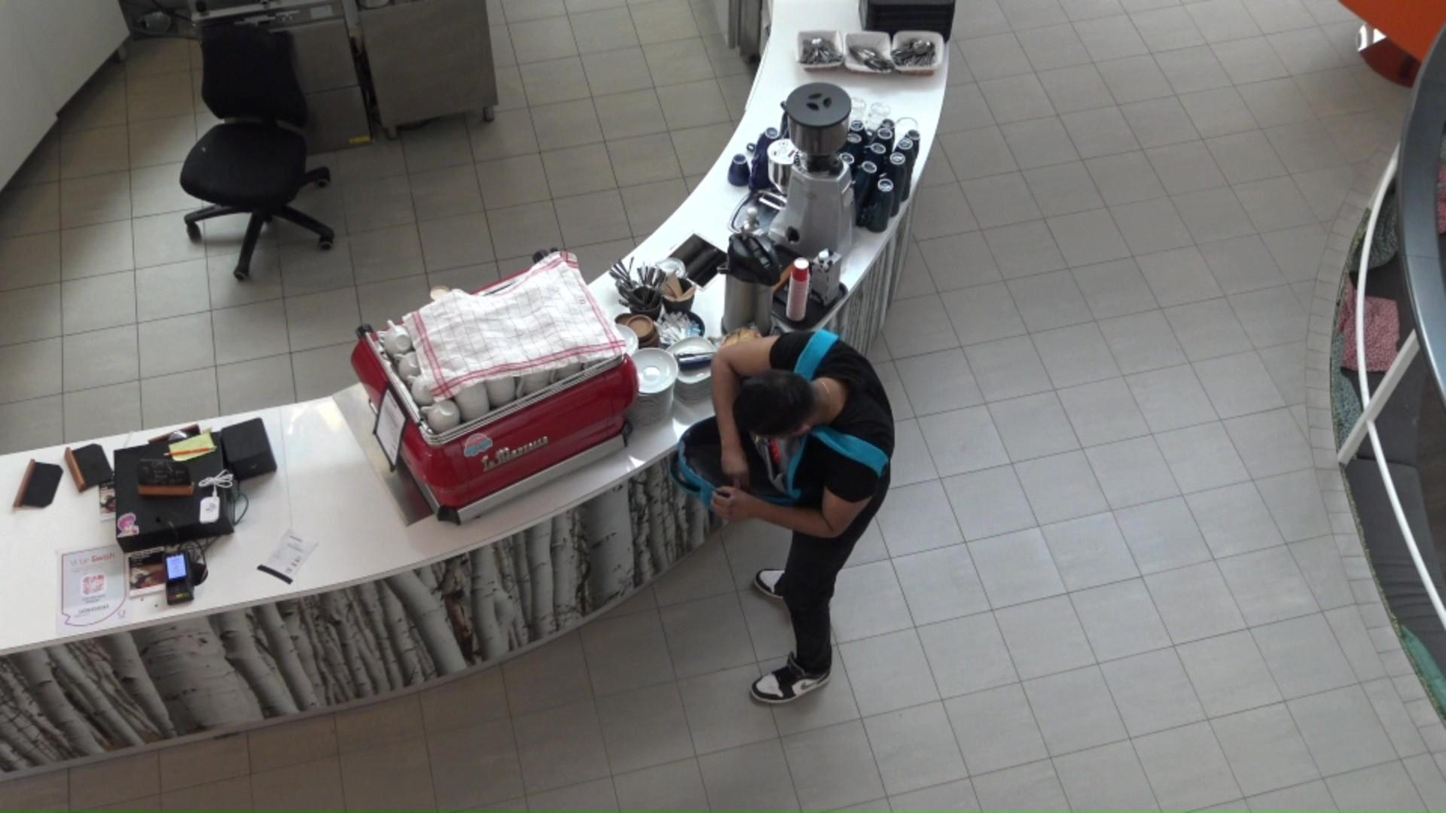shoplifting: (667, 335, 893, 705)
